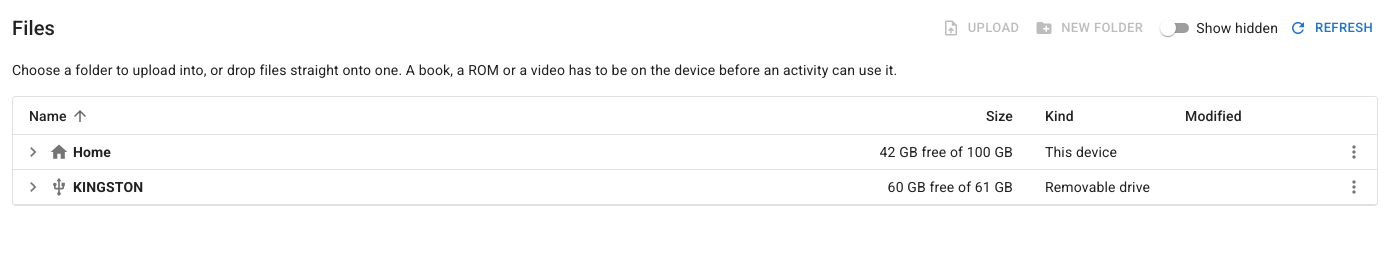
the file tree › stops showing a folder's contents when it is closed
The width and height of the screenshot is (1390, 258).
Expected: the heading "Files" is shown, [12,12,55,44]
Click the button named "Expand Home" at (33, 152), box [18,137,48,167]
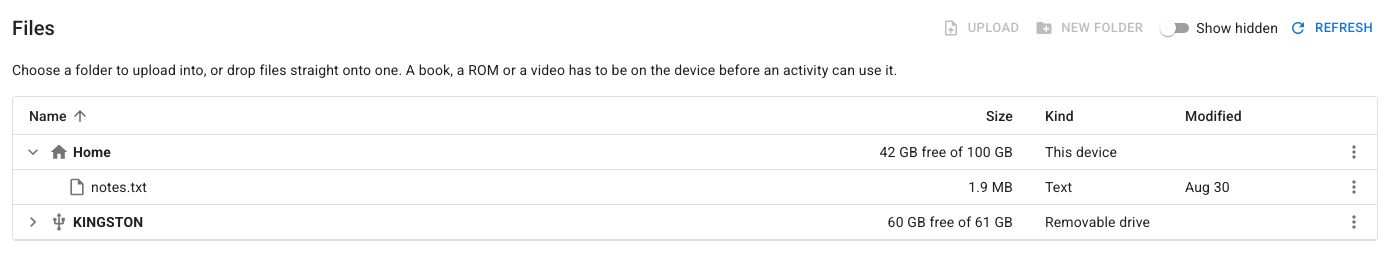
Expected: the text "notes.txt" is shown, [91,179,147,195]
Click the button named "Collapse Home" at (33, 152), box [18,137,48,167]
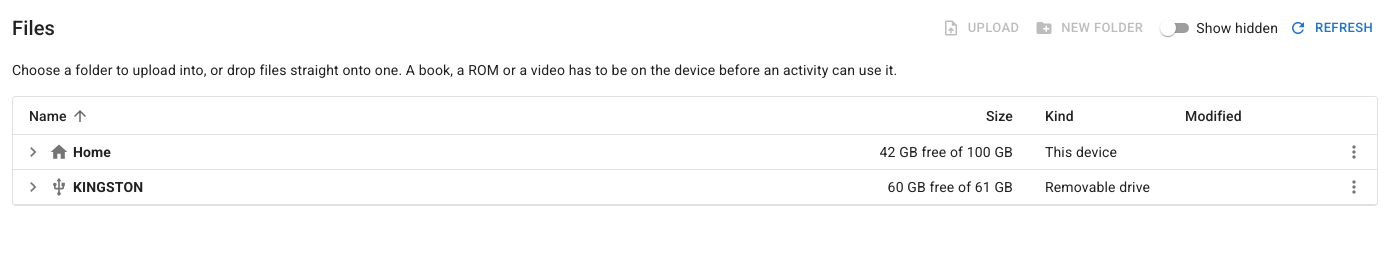
Expected: the text "notes.txt" is gone
